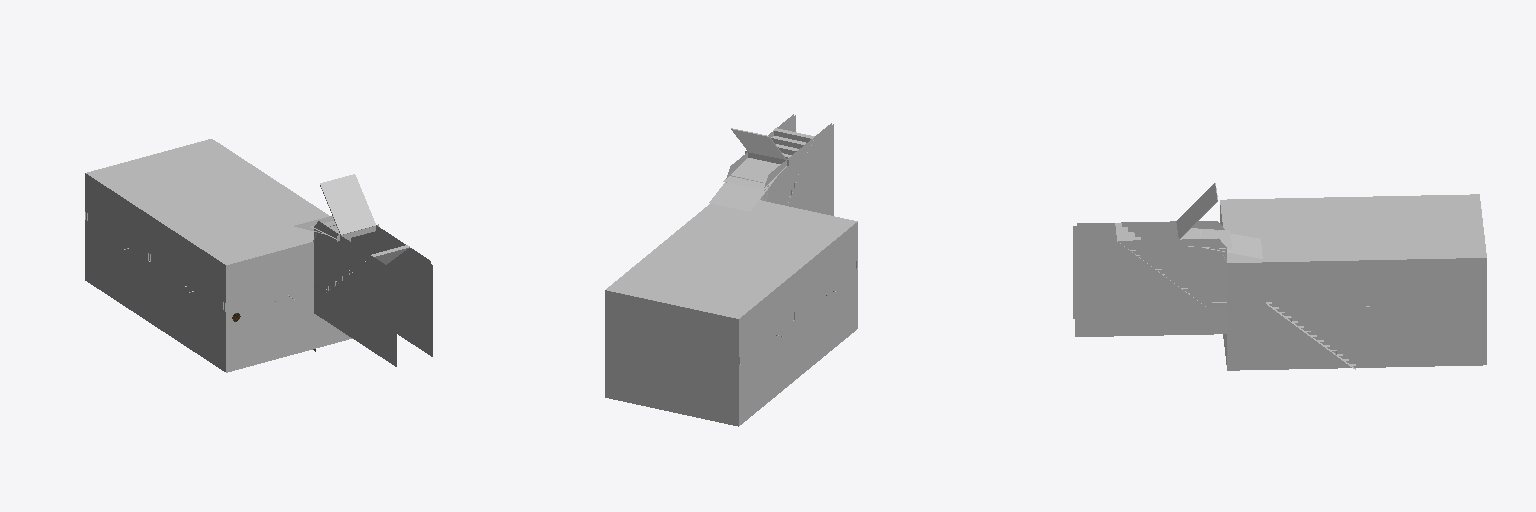
The picture shows the model from 3 angles: view 1: azimuth 30°, elevation 25°; view 2: azimuth 150°, elevation 25°; view 3: azimuth 270°, elevation 25°; orthographic projection.
Parts seen in each view (by area): view 1: body.001, body.006, body.005, Cube; view 2: body.001, body.006, body.007, body.009, Cube, stairs.001; view 3: body.001, body.005, body.006, Cube, body.007, body.009.
Part boxes in pixels (x1,y1,x2,y2): body.001: (85, 139, 352, 372); body.006: (314, 221, 396, 366); body.005: (351, 225, 432, 356); Cube: (320, 174, 375, 234); body.001: (605, 200, 857, 426); body.006: (764, 123, 833, 215); body.007: (709, 171, 776, 211); body.009: (723, 158, 786, 189); Cube: (731, 128, 786, 159); stairs.001: (771, 128, 814, 202); body.001: (1220, 194, 1486, 370); body.005: (1075, 239, 1226, 336); body.006: (1073, 221, 1224, 318); Cube: (1176, 183, 1217, 239); body.007: (1200, 229, 1262, 258); body.009: (1180, 228, 1231, 248).
Bounding box in the file's own units: 12.42 × 14.1 × 29.84.
41 materials, 9 textured.